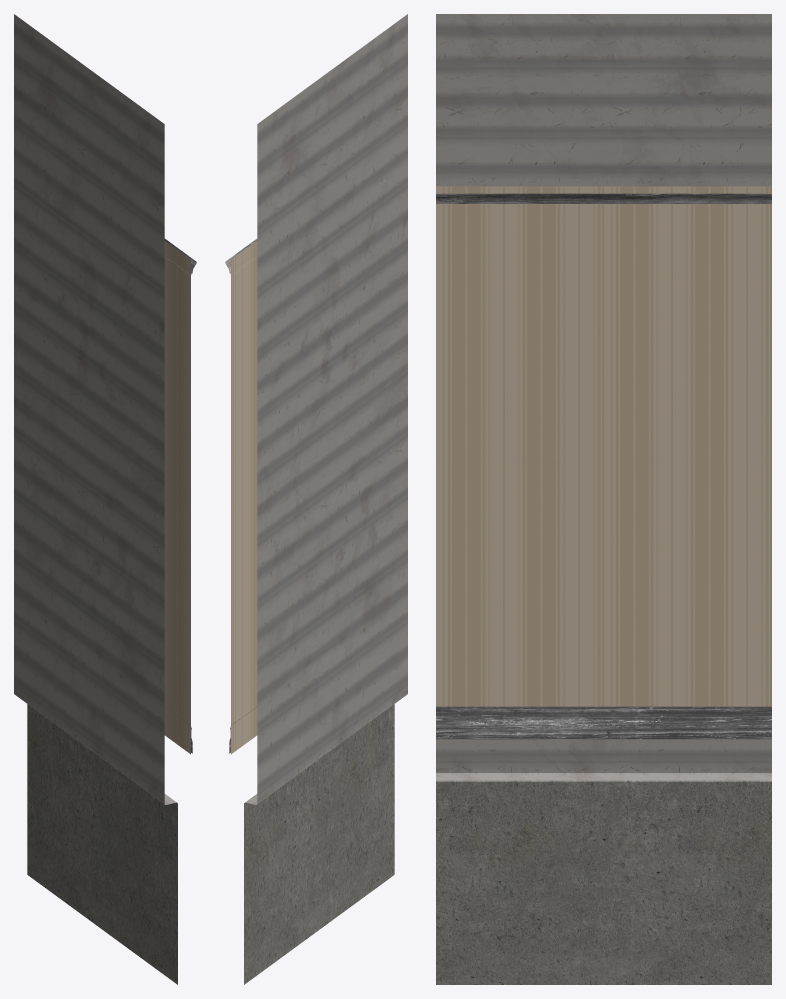
Rendered from SM_Wall_Floor1_200.fbx.
3 views of the same model, side by side, from view 1: azimuth 30°, elevation 25°; view 2: azimuth 150°, elevation 25°; view 3: azimuth 270°, elevation 25° (orthographic). The views are drawn at different scales.
Visible parts, largest first — view 1: SM_Wall_Floor1_200; view 2: SM_Wall_Floor1_200; view 3: SM_Wall_Floor1_200.
Part boxes in pixels (box(x1,y1,x2,y2)): SM_Wall_Floor1_200: box(14, 14, 196, 984); SM_Wall_Floor1_200: box(225, 14, 407, 984); SM_Wall_Floor1_200: box(436, 14, 771, 984).
Bounding box in the file's own units: 17.23 × 140 × 443.
Materials: 4 (4 with a texture image).
